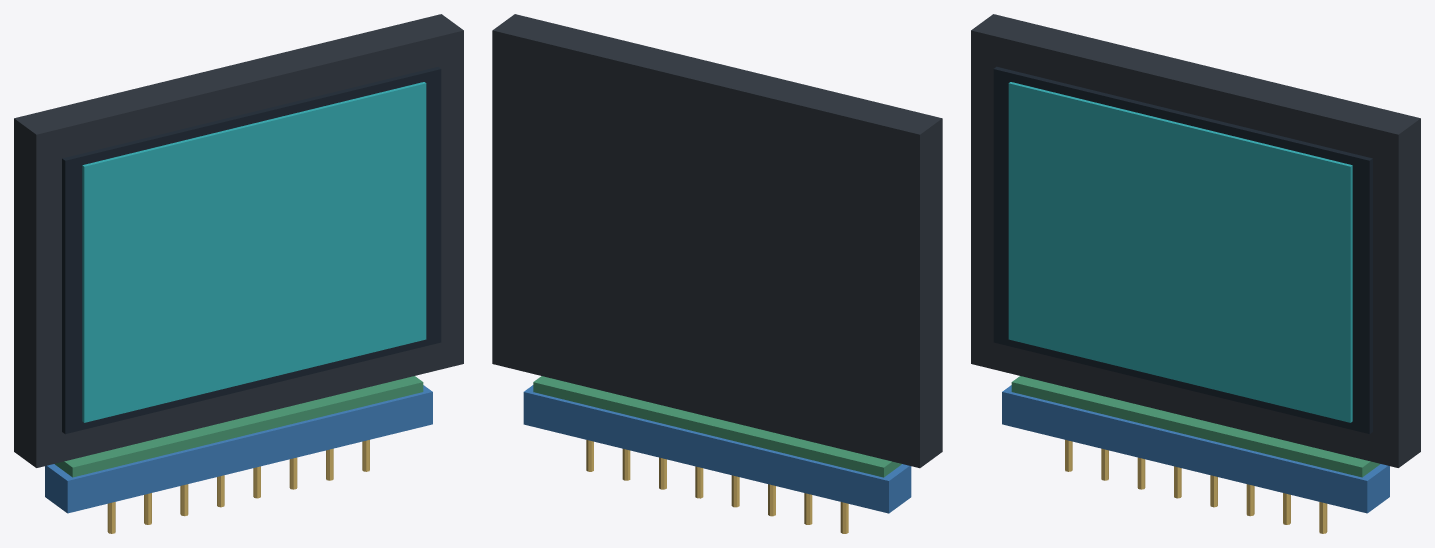
File: product-16.glb
3 renders of one model, left to right at view 1: azimuth 30°, elevation 25°; view 2: azimuth 150°, elevation 25°; view 3: azimuth 330°, elevation 25°, orthographic.
Parts seen in each view (by area): view 1: product-16; view 2: product-16; view 3: product-16.
Boxes of the visible parts, x1,y1,x2,y2 form: product-16: (14,14,463,533); product-16: (492,14,942,533); product-16: (971,14,1420,533).
Bounding box in the file's own units: 1.1 × 1.05 × 0.123.
